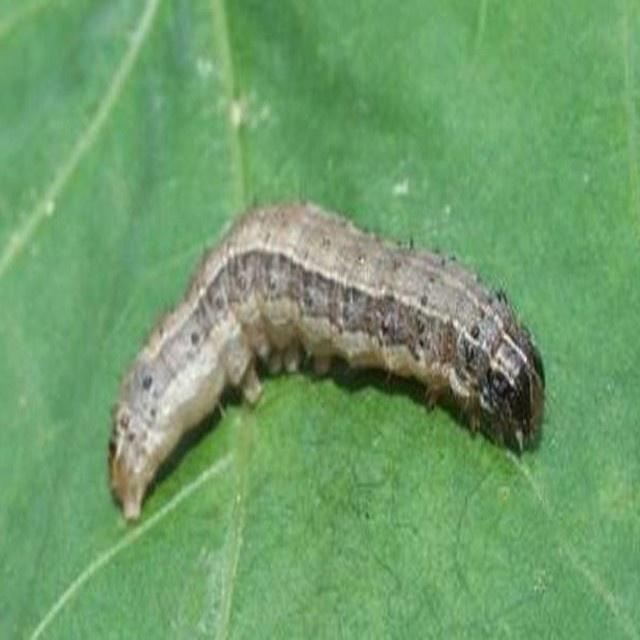gusano_cogollero: (102, 186, 544, 522)
